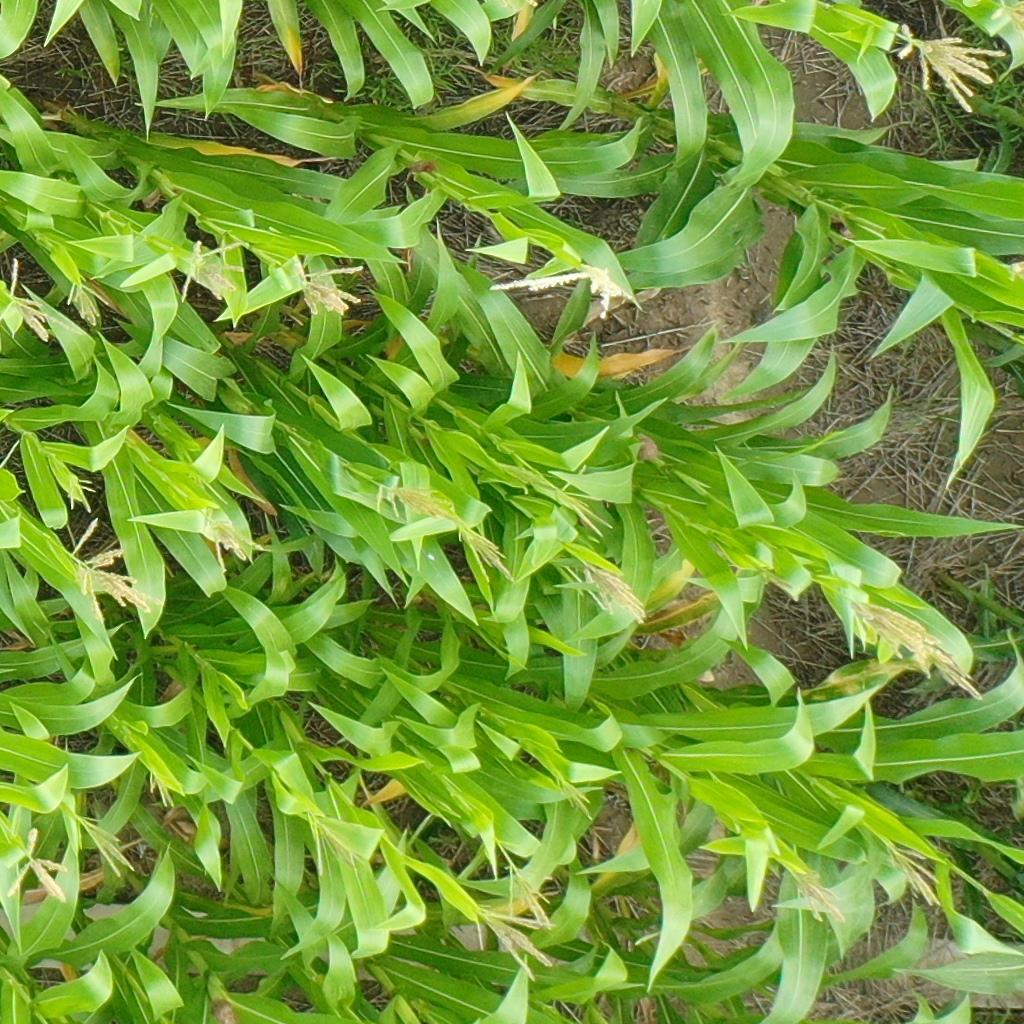Tassel: (62, 516, 163, 625), (898, 22, 1006, 115), (486, 268, 638, 322), (1, 259, 83, 343), (468, 903, 558, 978), (846, 597, 934, 660), (910, 634, 984, 703), (6, 827, 71, 904), (180, 239, 252, 306), (885, 839, 952, 909), (203, 507, 270, 574), (582, 560, 649, 626), (74, 812, 138, 879), (293, 259, 365, 318), (307, 811, 367, 880), (456, 518, 518, 581), (372, 480, 457, 525), (505, 863, 558, 928), (791, 868, 849, 927), (561, 488, 614, 538), (66, 279, 111, 327), (555, 778, 597, 820), (148, 769, 178, 811), (990, 1, 1024, 37), (66, 479, 98, 516)
